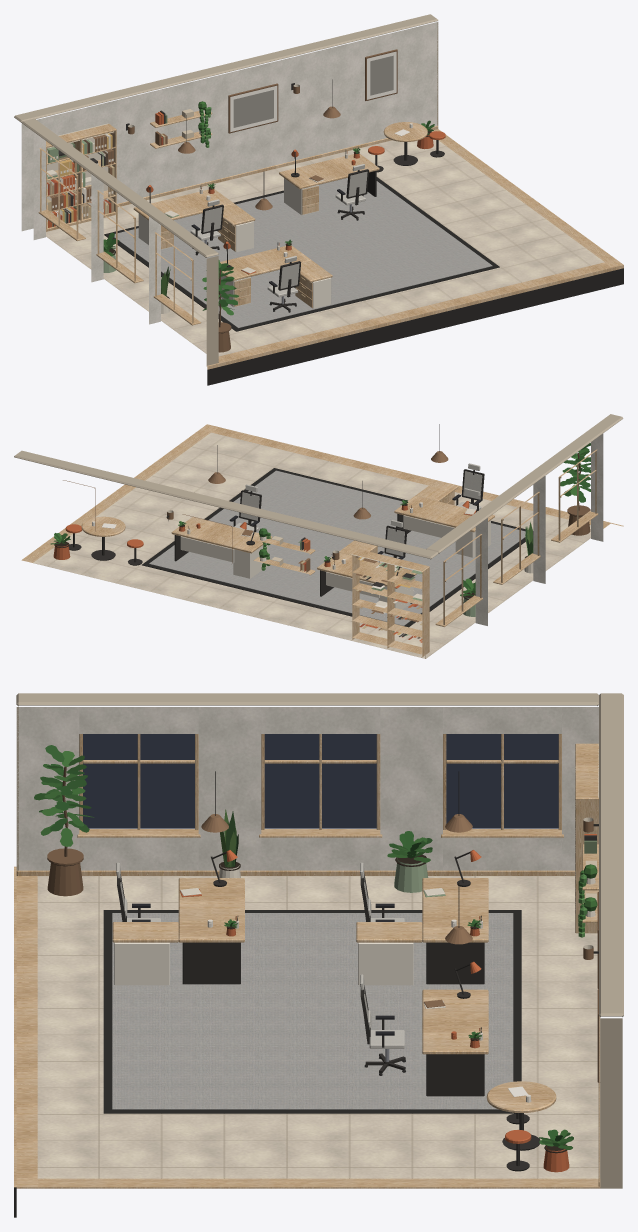
Rendered from office.gltf.
3 views of the same model, one above another, from view 1: azimuth 30°, elevation 25°; view 2: azimuth 150°, elevation 25°; view 3: azimuth 270°, elevation 25° (orthographic). The views are drawn at different scales.
Visible parts, largest first — view 1: room_office; view 2: room_office; view 3: room_office, win_office.
Boxes of the visible parts, left/top/right/bottom form: room_office: left=14, top=14, right=623, bottom=385; room_office: left=14, top=414, right=623, bottom=658; room_office: left=14, top=693, right=623, bottom=1217; win_office: left=83, top=734, right=558, bottom=828.
Size of the model in its own units: 10.93 by 3.46 by 8.76.
Materials: 11 (5 with a texture image).
